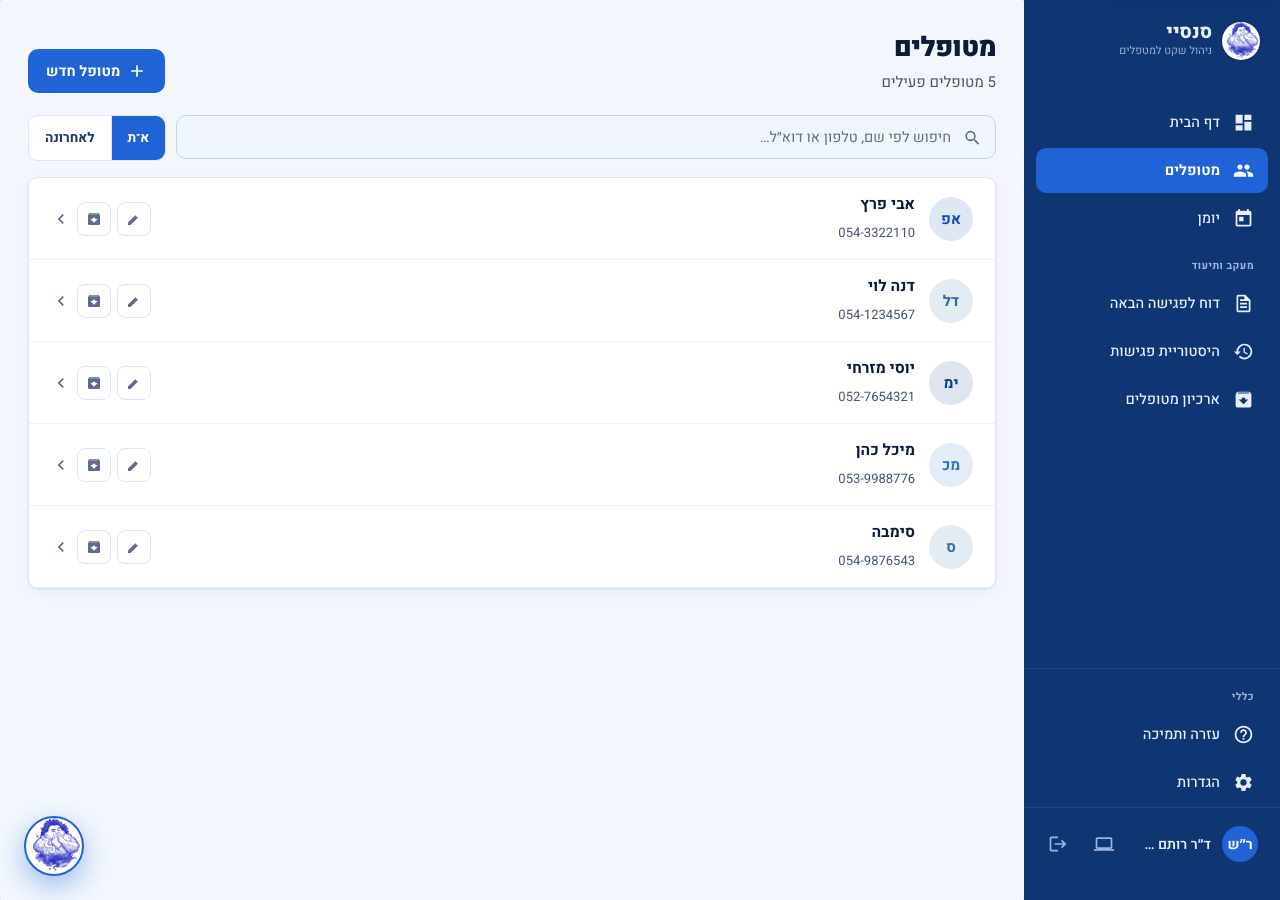
it: edit patient — prefilled dialog & rename › renaming and saving closes the dialog and shows the new name in the roster
Click the 2nd button named "עריכת מטופל": (134, 300) top-left (117, 284), bottom-right (151, 318)
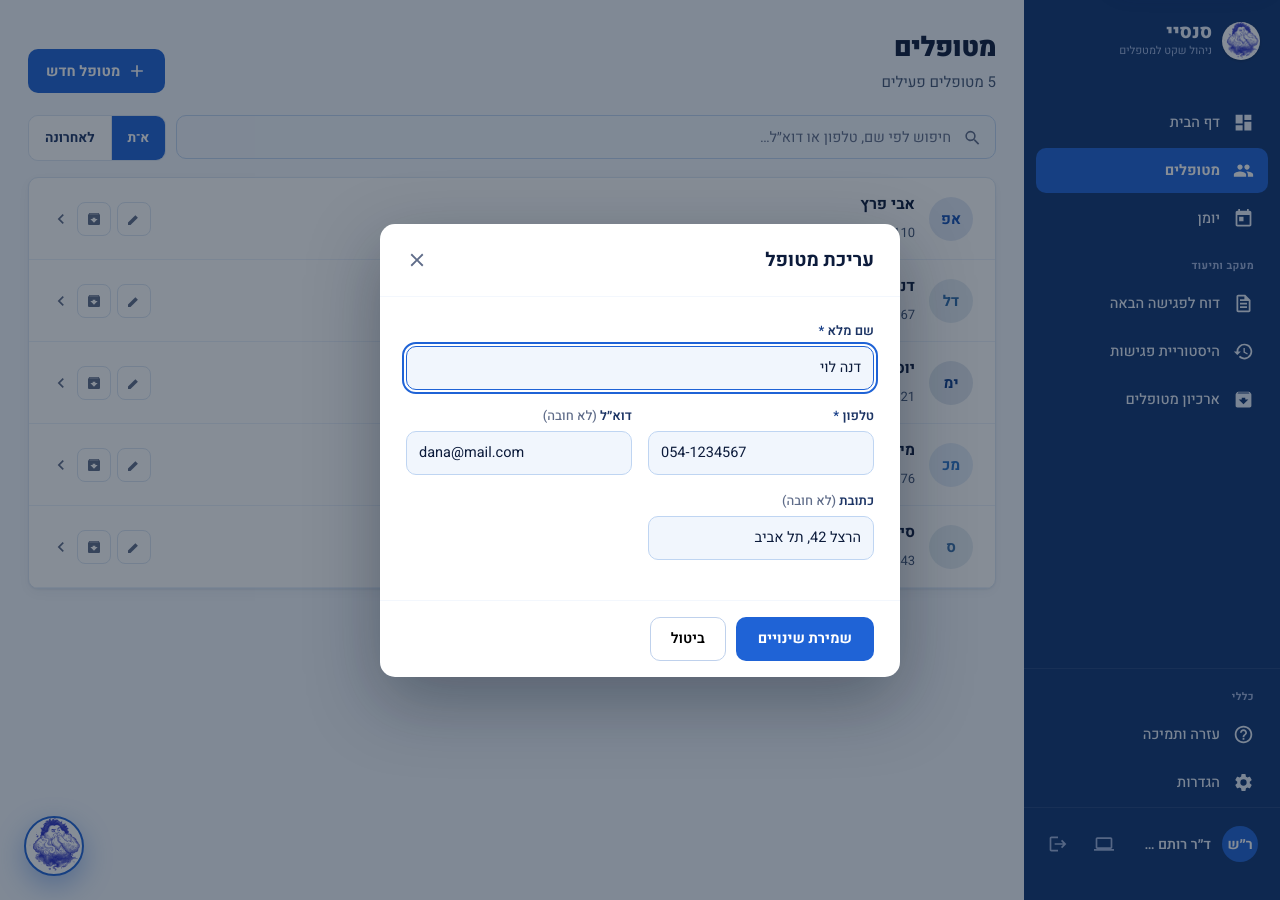
Expected: the dialog is shown, top-left (380, 224), bottom-right (900, 676)
Replace the text in the field named "שם מלא" with "שם חדש לבדיקה": (640, 368) top-left (406, 346), bottom-right (874, 390)
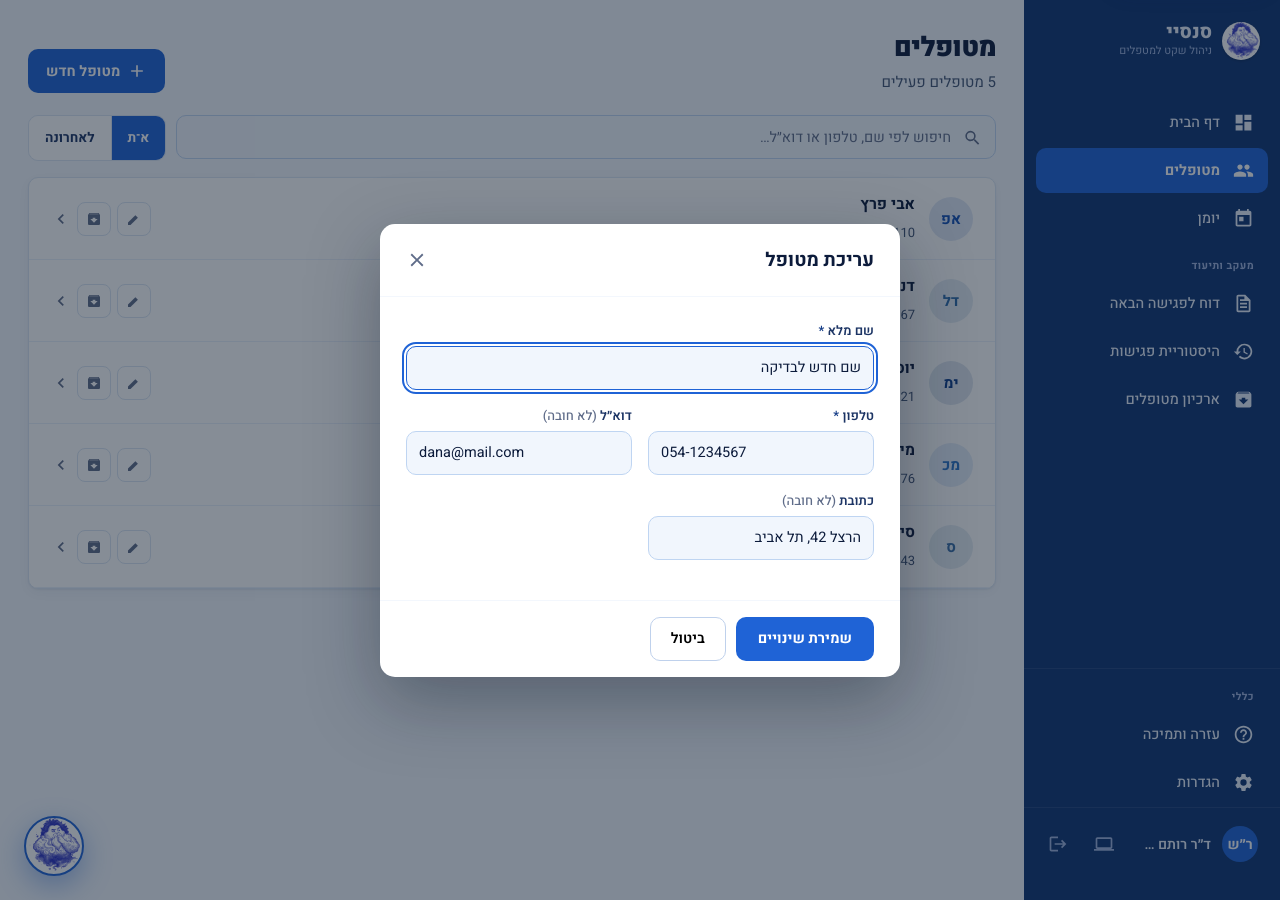
Click the button "שמירת שינויים": (805, 638) top-left (736, 616), bottom-right (874, 660)
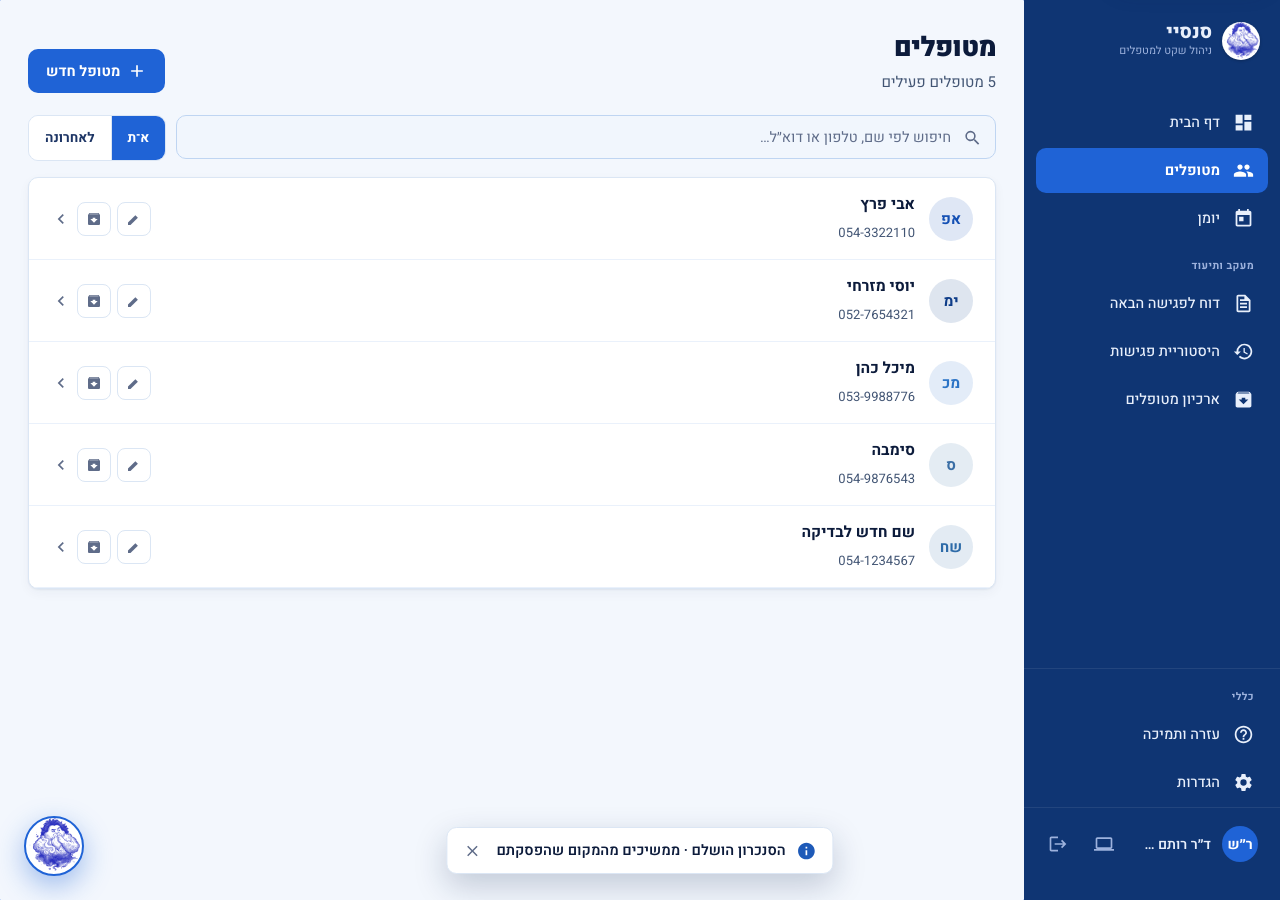
Expected: the element with id "main-content" shows "שם חדש לבדיקה", top-left (165, 521), bottom-right (973, 572)
Expected: the button with id "main-content" no longer shows "דנה לוי"
